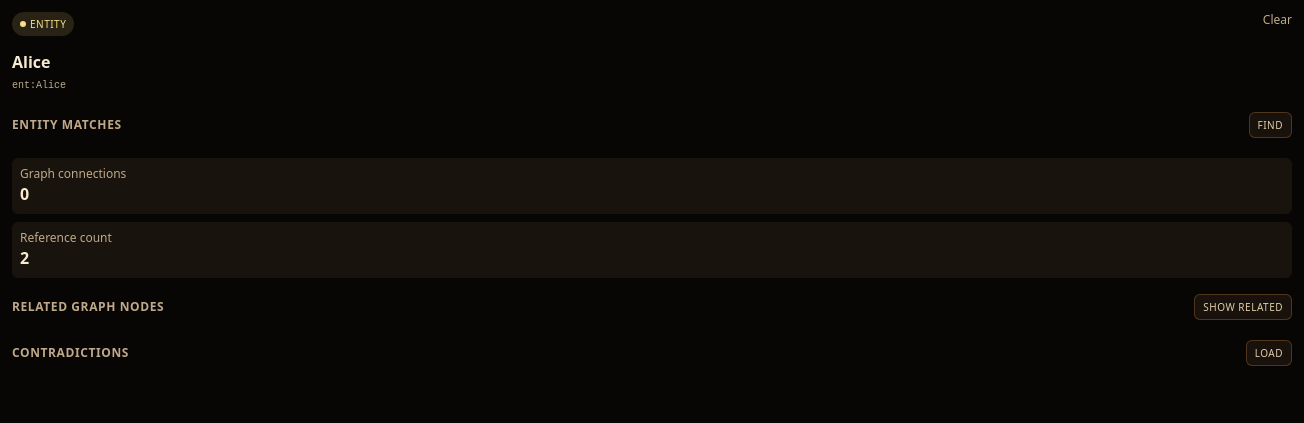
InspectorPanel › finds matching entities for an entity node
Check: the heading "Alice" is shown, box [12,51,50,73]
Click the button "Find": [1270, 125] box [1248,112,1292,138]
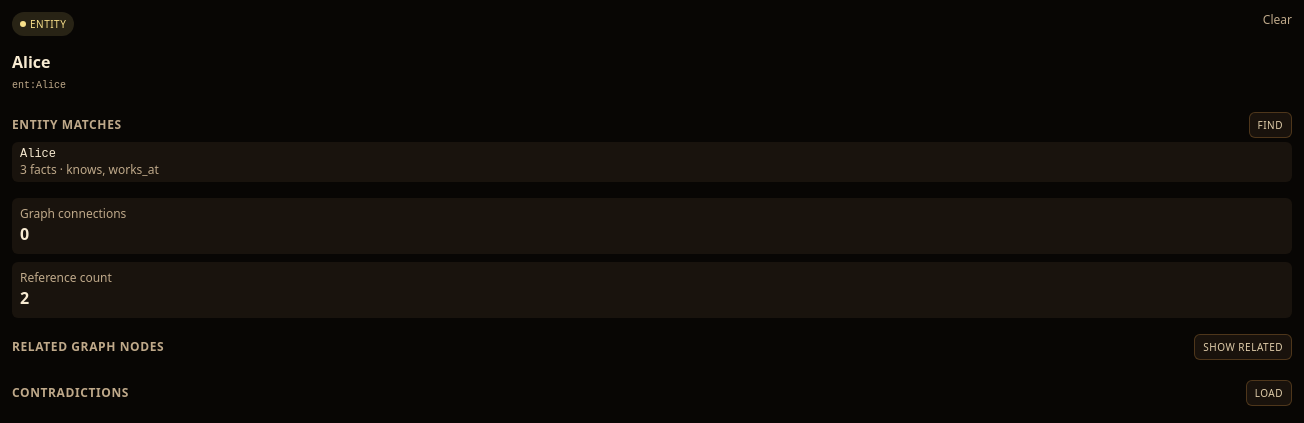
Check: the text "3 facts · knows, works_at" is shown, box [20,161,159,178]
